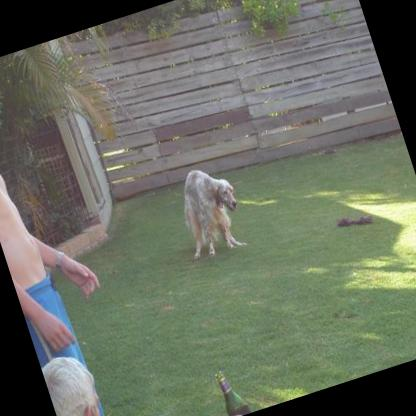English_setter: (170, 158, 250, 261)
